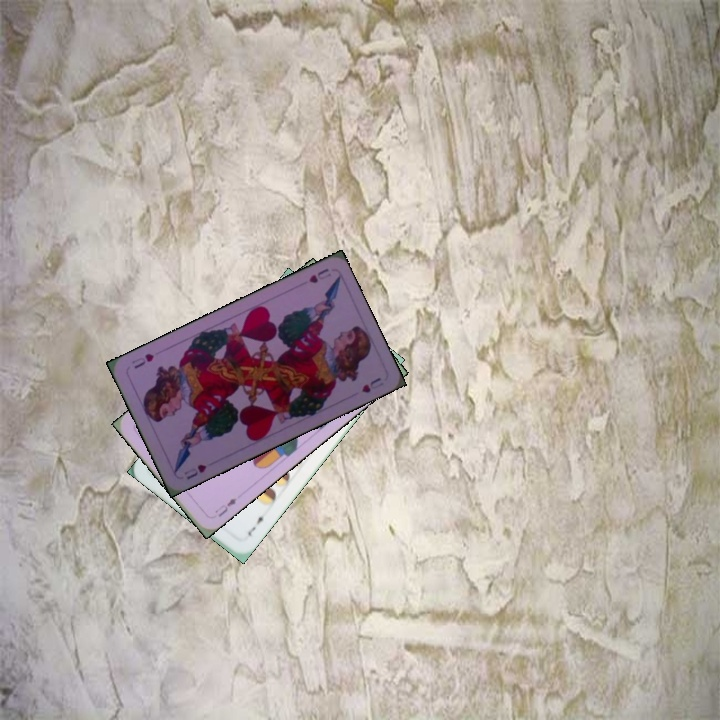E7: (243, 510, 269, 539)
EU: (211, 494, 239, 520)
HU: (304, 264, 334, 286), (180, 460, 209, 482)
